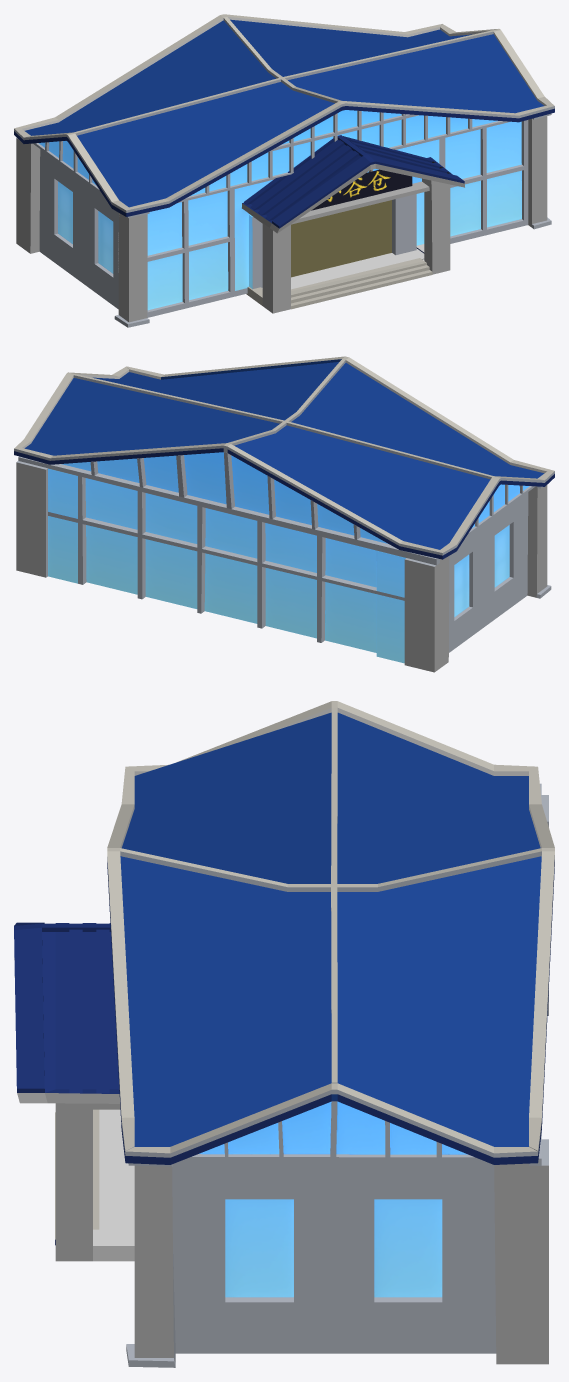
File: jiuku2.glb
3 views of the same model, one above another, from view 1: azimuth 30°, elevation 25°; view 2: azimuth 150°, elevation 25°; view 3: azimuth 270°, elevation 25° (orthographic). The views are drawn at different scales.
Parts seen in each view (by area): view 1: 平面.019, 2号酒库.002; view 2: 平面.019; view 3: 平面.019.
Boxes of the visible parts, box(x1,y1,x2,y2) form: 平面.019: box(14, 14, 554, 327); 2号酒库.002: box(311, 169, 412, 210); 平面.019: box(14, 356, 554, 672); 平面.019: box(14, 701, 554, 1367).
Bounding box in the file's own units: 112 × 44.24 × 65.99.
13 materials, 3 textured.
